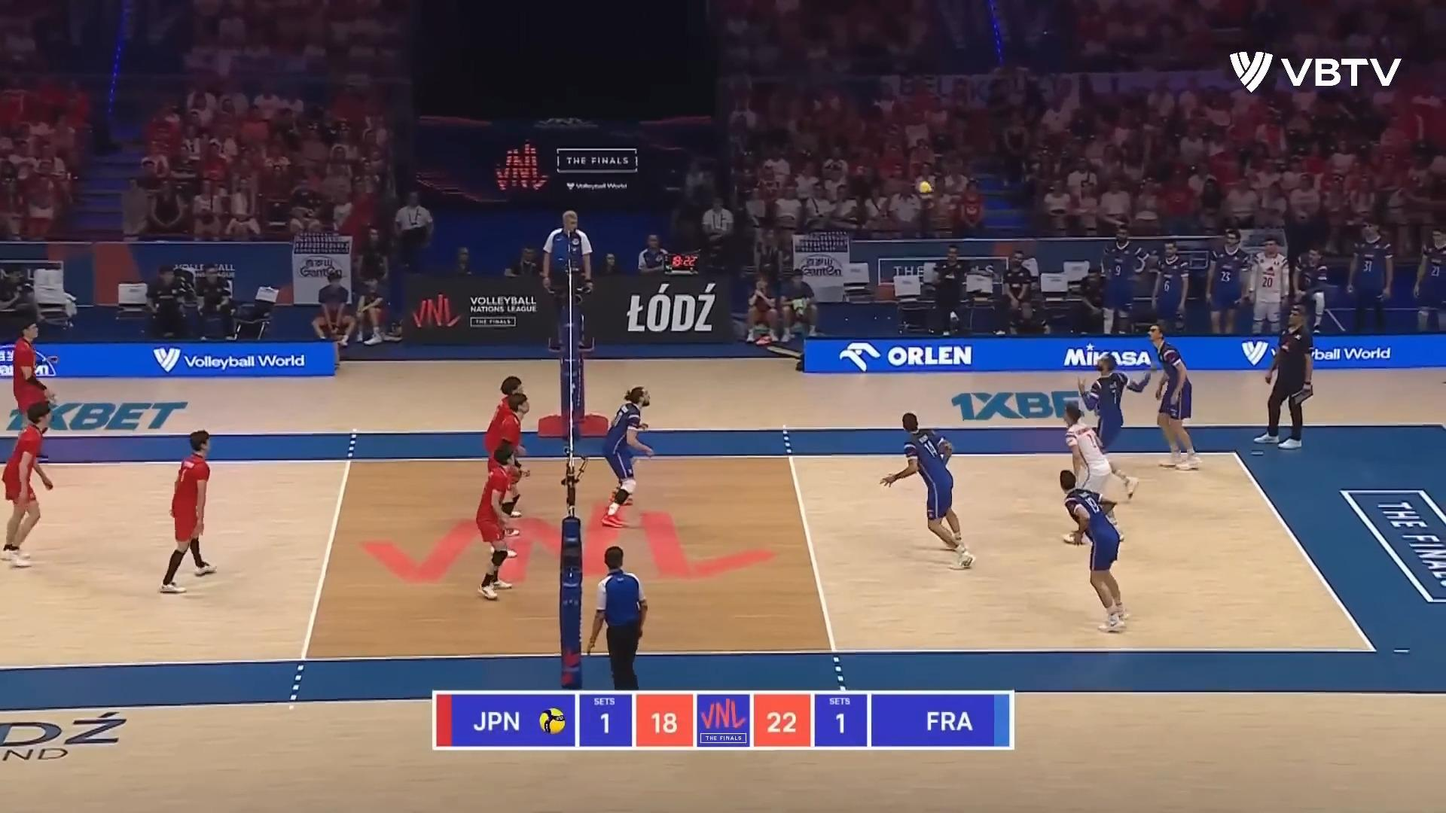ball: (917, 182, 935, 199)
